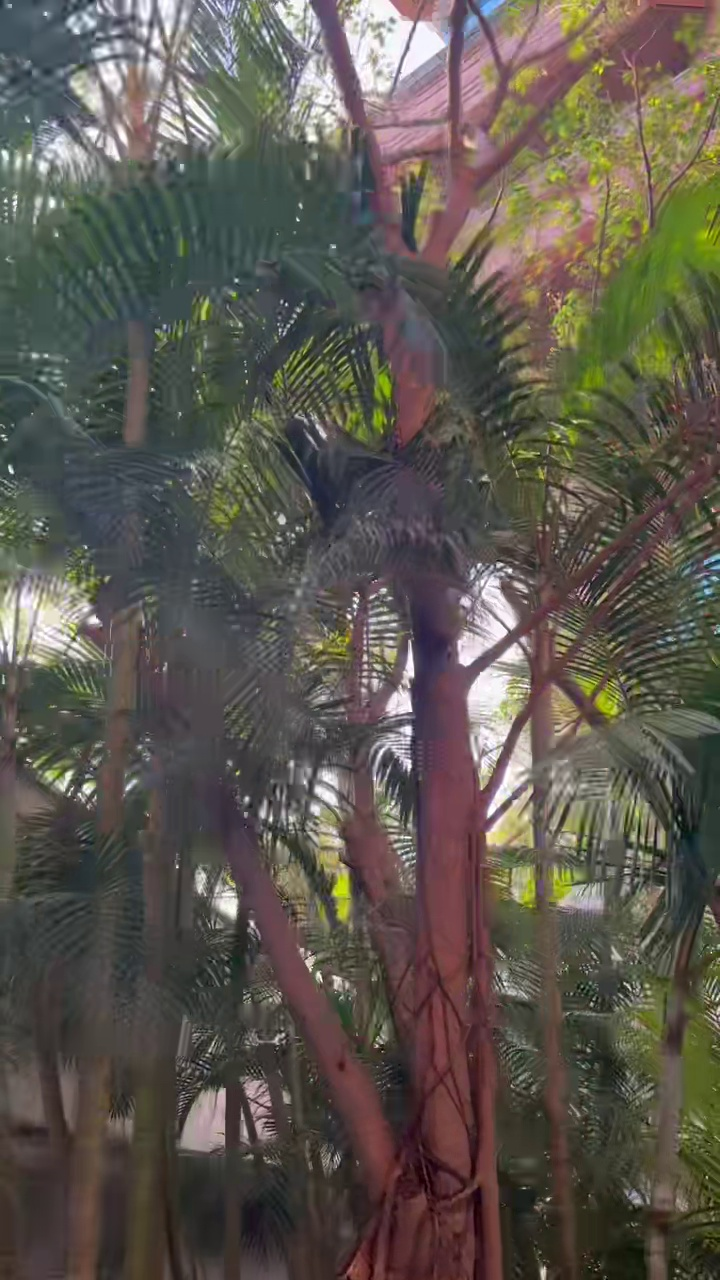Ficus benjamina: (228, 0, 625, 1279)
